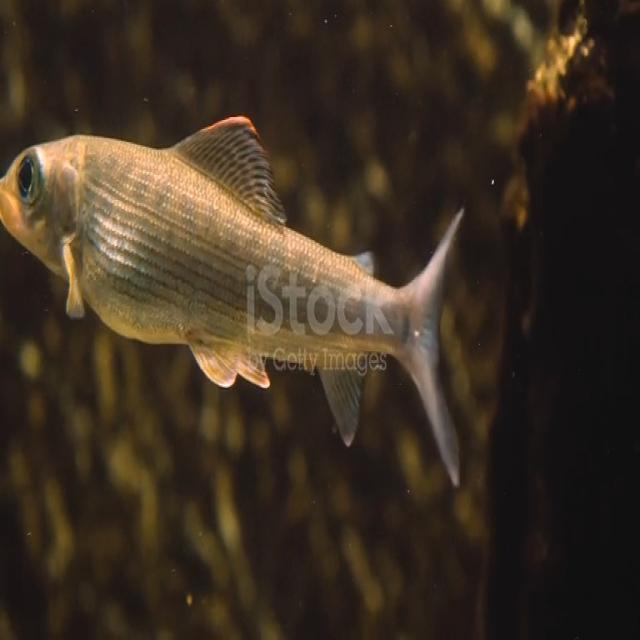fish: (0, 105, 467, 492)
